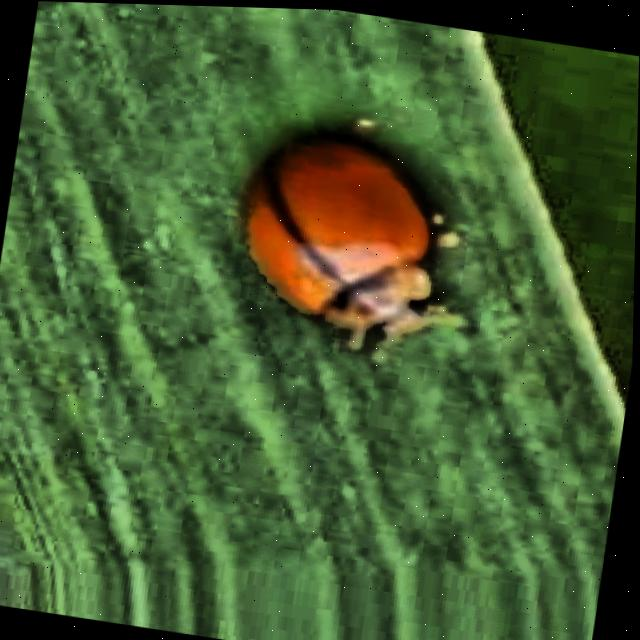Ladybug: (186, 96, 521, 371)
